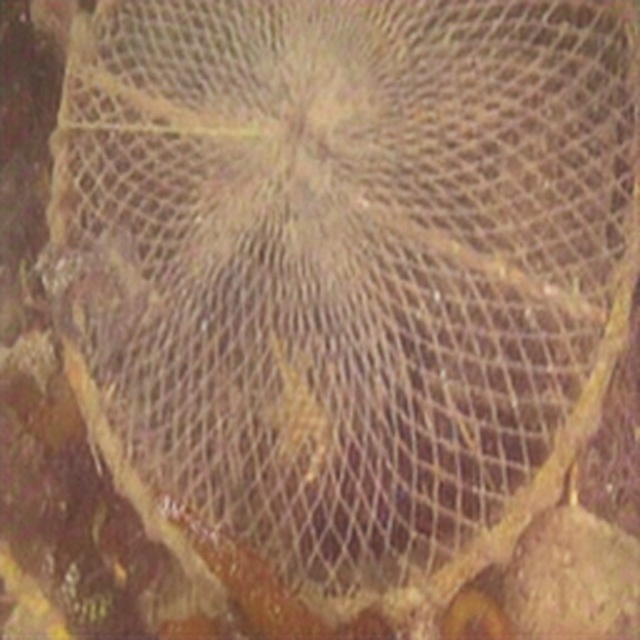mine: (50, 0, 640, 621)
